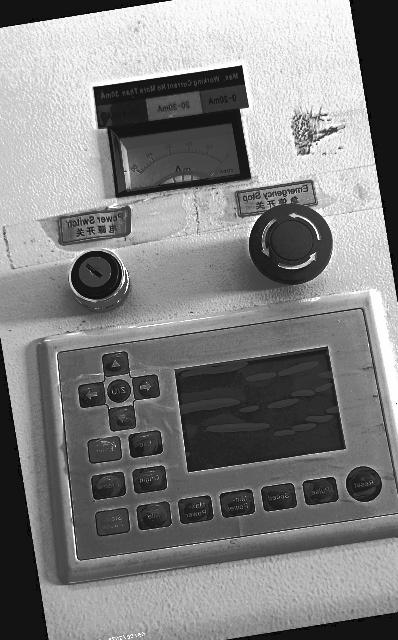Amp_Meter: (110, 116, 247, 194)
Display: (175, 349, 343, 470)
Down_button: (109, 405, 135, 431)
Emergency_Stop: (249, 204, 332, 285)
Enter_button: (88, 437, 121, 463)
Esc_button: (129, 431, 163, 458)
File_button: (137, 502, 171, 530)
Frame_button: (92, 473, 125, 499)
Left_button: (133, 375, 160, 400)
Max-Power_button: (179, 496, 213, 524)
Min-Power_button: (220, 490, 255, 517)
Origin_button: (133, 466, 167, 493)
Power_switch: (70, 251, 129, 310)
Pulse_button: (303, 478, 338, 505)
Reset_button: (346, 467, 382, 502)
Right_button: (79, 383, 105, 408)
Speed_button: (262, 484, 297, 511)
Start-Pause_button: (96, 509, 130, 536)
Up_button: (103, 352, 129, 376)
Z_U_button: (108, 380, 131, 402)
